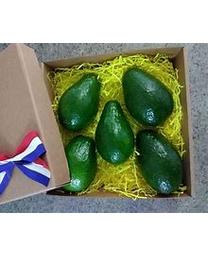avocado: (136, 127, 186, 196), (120, 68, 175, 128), (95, 97, 135, 164), (57, 72, 101, 131), (61, 134, 98, 194)
